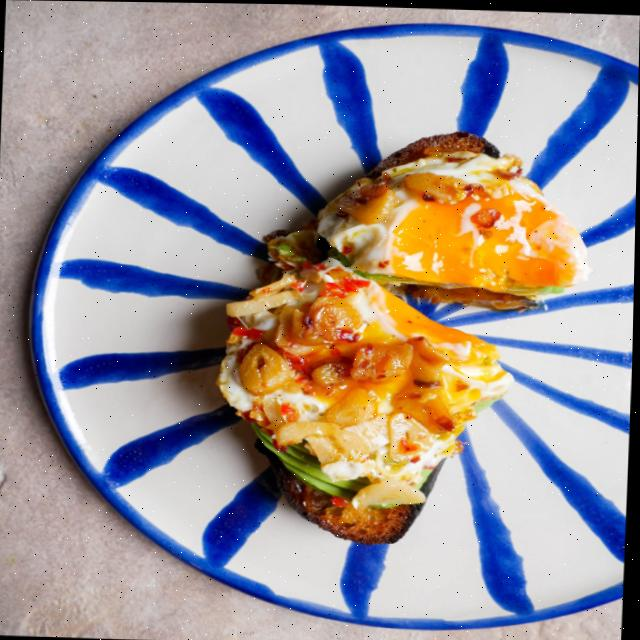Egg: (219, 264, 514, 506), (495, 243, 510, 253)
